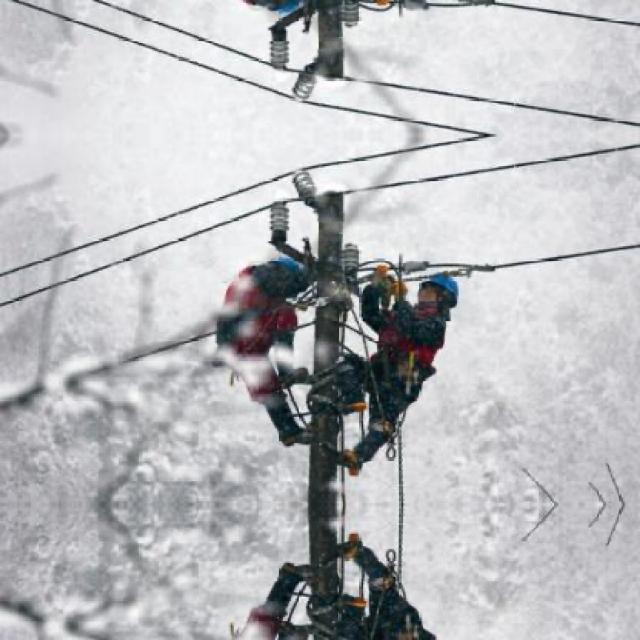helmet: (414, 268, 461, 315), (266, 250, 306, 288), (265, 0, 307, 18)
